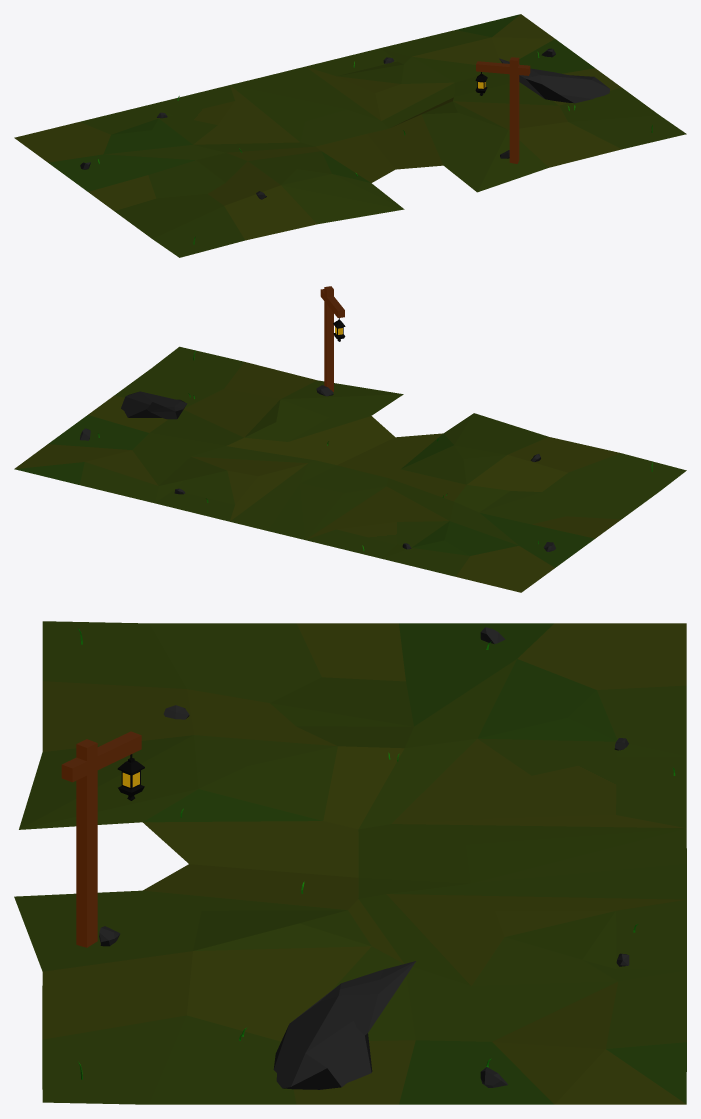
The model's file is terrain-neutral.glb.
3 views of the same model, one above another, from view 1: azimuth 30°, elevation 25°; view 2: azimuth 150°, elevation 25°; view 3: azimuth 270°, elevation 25° (orthographic). The views are drawn at different scales.
Parts seen in each view (by area): view 1: terrain-neutral; view 2: terrain-neutral; view 3: terrain-neutral.
Boxes of the visible parts, x1,y1,x2,y2 form: terrain-neutral: (14, 14, 686, 257); terrain-neutral: (14, 286, 686, 592); terrain-neutral: (14, 621, 686, 1104).
Size of the model in its own units: 13.49 by 2.82 by 7.97.
1 material, 1 textured.
